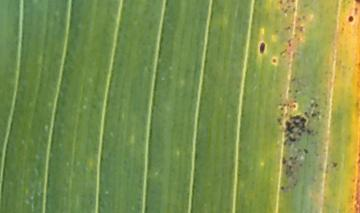tarspot: (285, 115, 306, 142), (258, 41, 266, 56), (302, 147, 310, 155), (332, 160, 339, 169), (277, 115, 283, 125), (348, 14, 354, 23), (271, 57, 278, 64), (279, 184, 286, 191), (307, 128, 313, 136), (309, 113, 318, 117), (282, 157, 287, 164), (314, 102, 319, 108), (310, 103, 314, 110), (355, 1, 360, 4)
